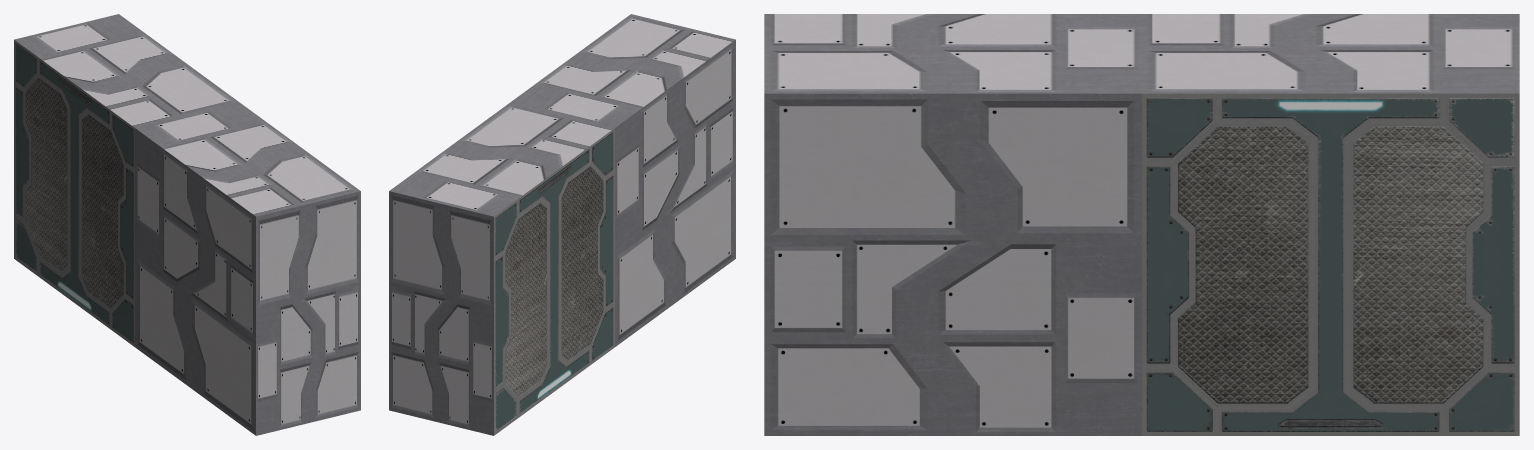
The model's file is Cajas.fbx.
3 renders of one model, left to right at view 1: azimuth 30°, elevation 25°; view 2: azimuth 150°, elevation 25°; view 3: azimuth 270°, elevation 25°, orthographic. The views are drawn at different scales.
Visible parts, largest first — view 1: Cube.001, Cube; view 2: Cube, Cube.001; view 3: Cube.001, Cube.
Boxes of the visible parts, x1=… form: Cube.001: x1=135, y1=102, x2=360, y2=435; Cube: x1=14, y1=14, x2=239, y2=346; Cube: x1=389, y1=102, x2=614, y2=435; Cube.001: x1=510, y1=14, x2=735, y2=346; Cube.001: x1=764, y1=14, x2=1141, y2=435; Cube: x1=1142, y1=14, x2=1519, y2=435.
Size of the model in its own units: 100 by 200 by 400.
